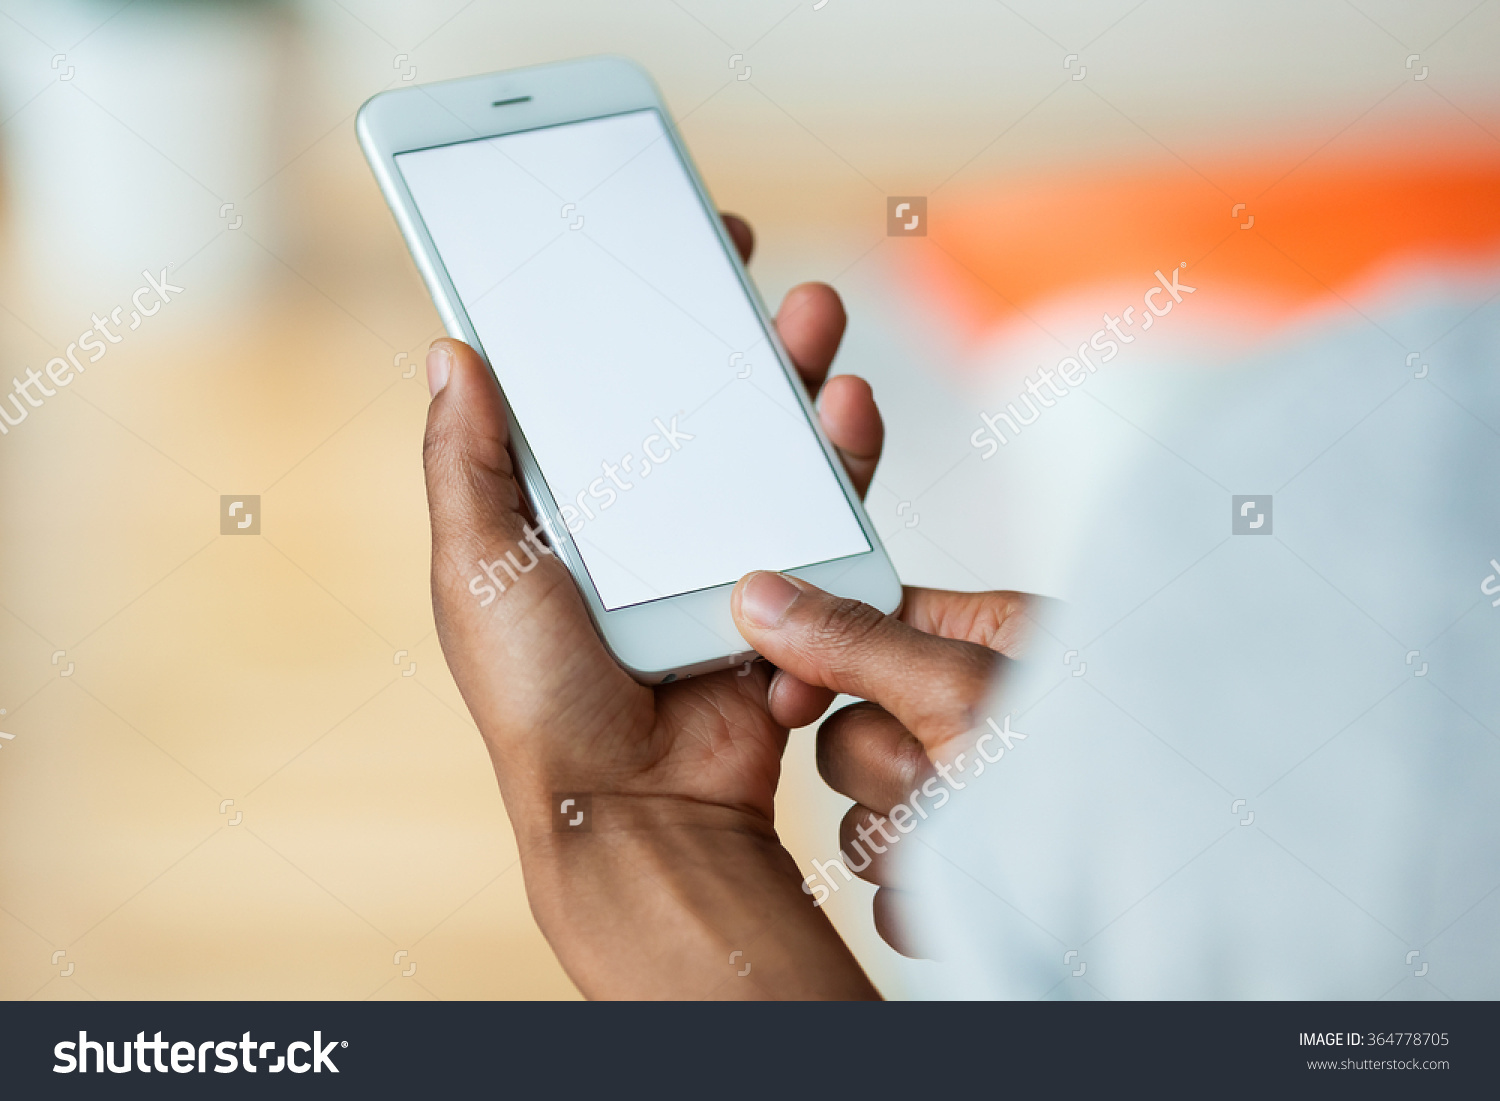smartphone: (354, 57, 904, 685)
